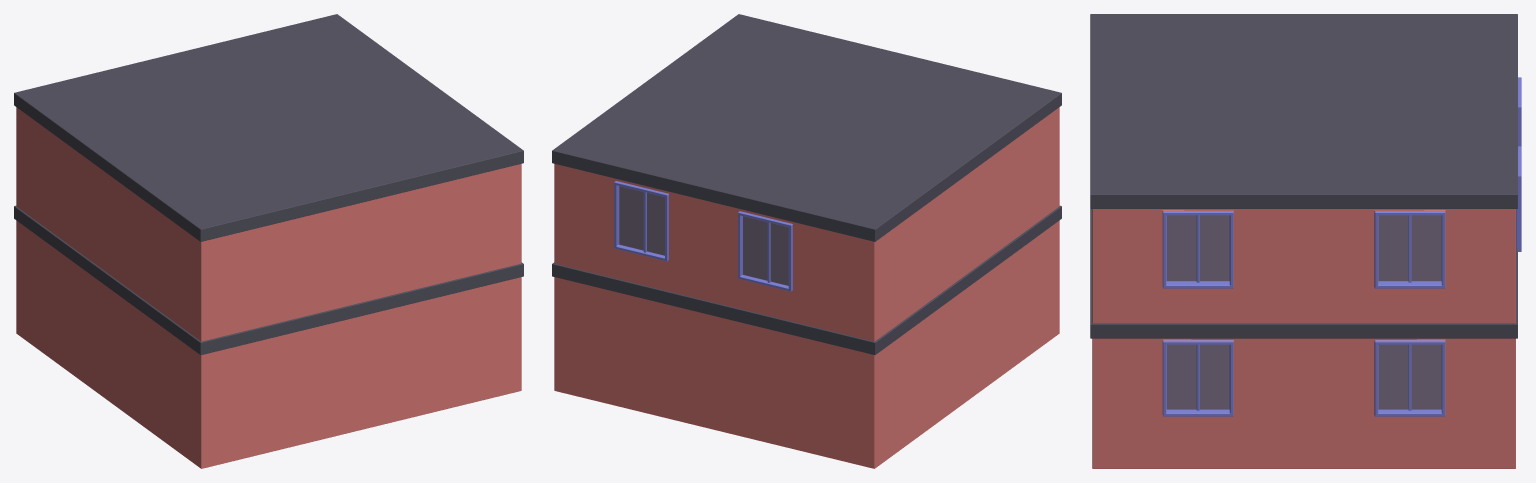
File: BuildingBlock_3_1.fbx
3 views of the same model, side by side, from view 1: azimuth 30°, elevation 25°; view 2: azimuth 150°, elevation 25°; view 3: azimuth 270°, elevation 25° (orthographic). The views are drawn at different scales.
Parts seen in each view (by area): view 1: BuildingBlock_3_1; view 2: BuildingBlock_3_1; view 3: BuildingBlock_3_1.
Boxes of the visible parts, box(x1,y1,x2,y2) form: BuildingBlock_3_1: box(14, 14, 523, 468); BuildingBlock_3_1: box(552, 14, 1061, 468); BuildingBlock_3_1: box(1090, 14, 1521, 468).
Bounding box in the file's own units: 1014 × 718 × 1018.
